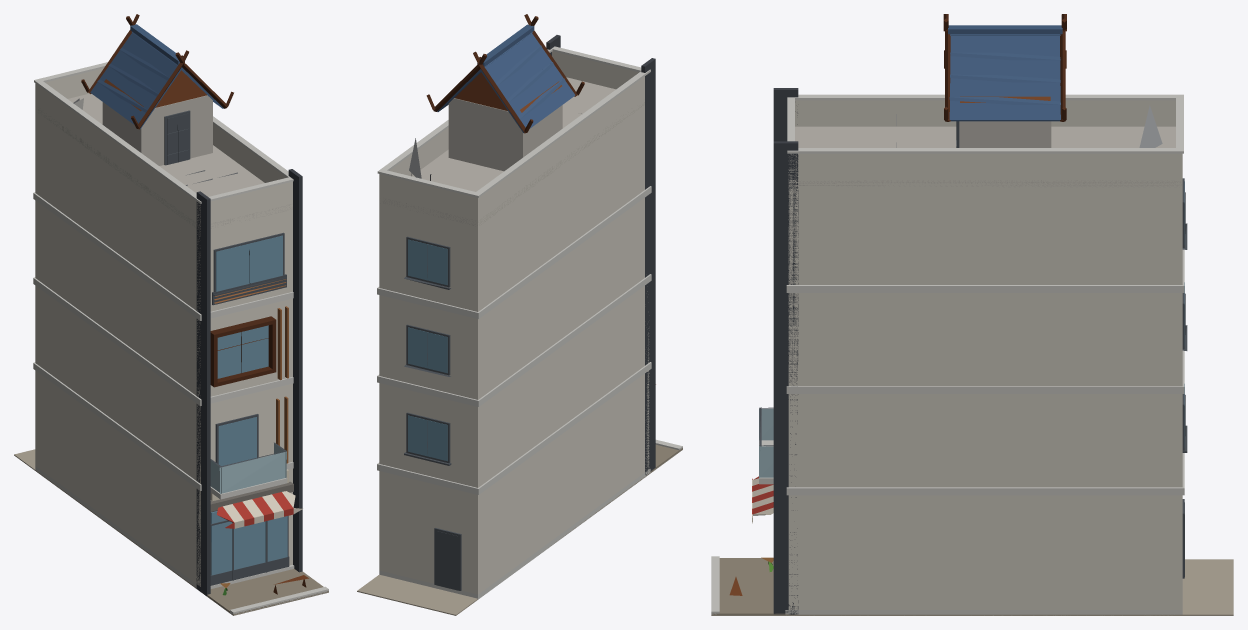
The model's file is bay2_mid2.glb.
3 views of the same model, side by side, from view 1: azimuth 30°, elevation 25°; view 2: azimuth 150°, elevation 25°; view 3: azimuth 270°, elevation 25° (orthographic). The views are drawn at different scales.
Parts seen in each view (by area): view 1: body; view 2: body; view 3: body.
Boxes of the visible parts, <box> form: body: <box>14,14,328,615</box>; body: <box>357,14,682,615</box>; body: <box>711,14,1233,615</box>.
Bounding box in the file's own units: 4.33 × 19.6 × 15.9.
